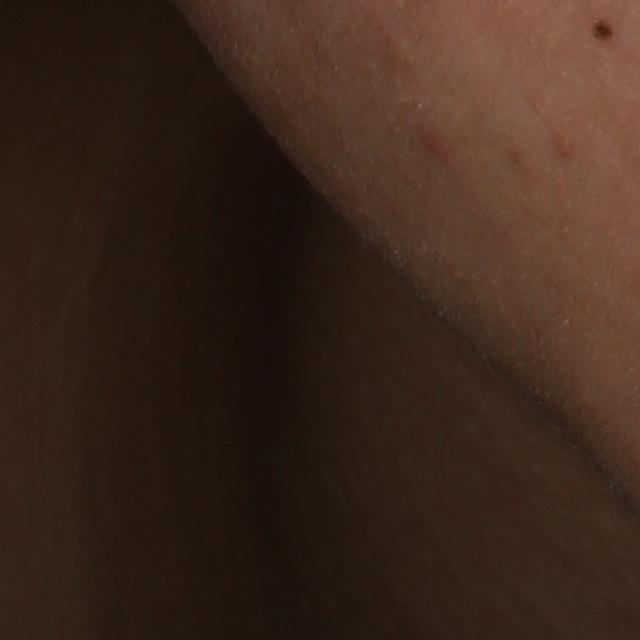nevus: (590, 18, 617, 45)
papule: (416, 124, 451, 158)
